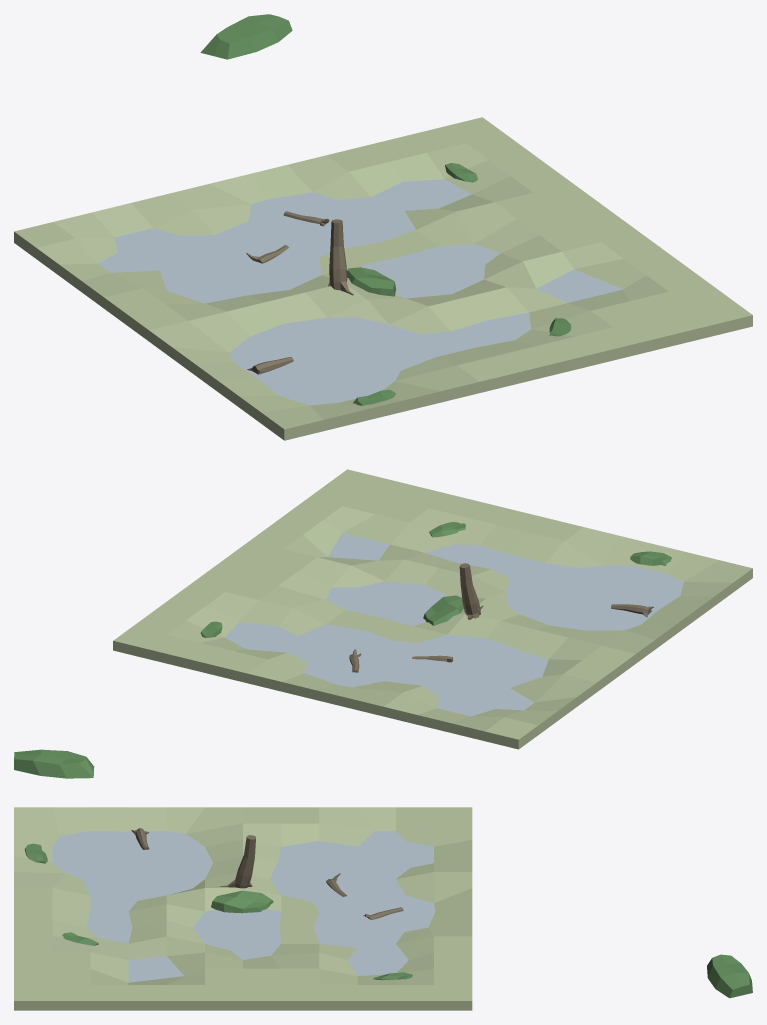
Rendered from Marshland III.fbx.
3 views of the same model, one above another, from view 1: azimuth 30°, elevation 25°; view 2: azimuth 150°, elevation 25°; view 3: azimuth 270°, elevation 25° (orthographic). The views are drawn at different scales.
Visible parts, largest first — view 1: Marshland III; view 2: Marshland III; view 3: Marshland III.
Part boxes in pixels (x1,y1,x2,y2): Marshland III: [14, 14, 752, 440]; Marshland III: [14, 469, 752, 778]; Marshland III: [14, 807, 752, 1010].
Bounding box in the file's own units: 1600 × 264 × 2580.
